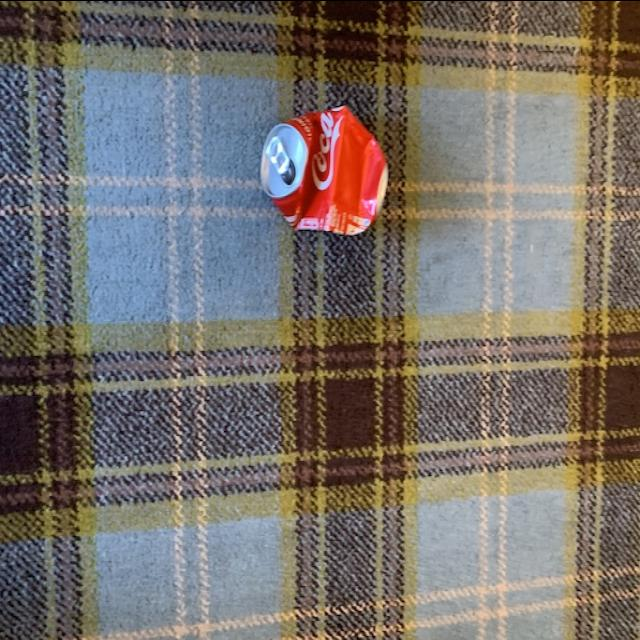litter: (230, 65, 402, 254)
